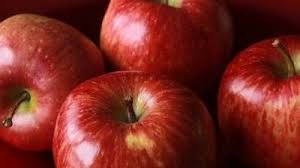apple: (218, 36, 300, 168)
